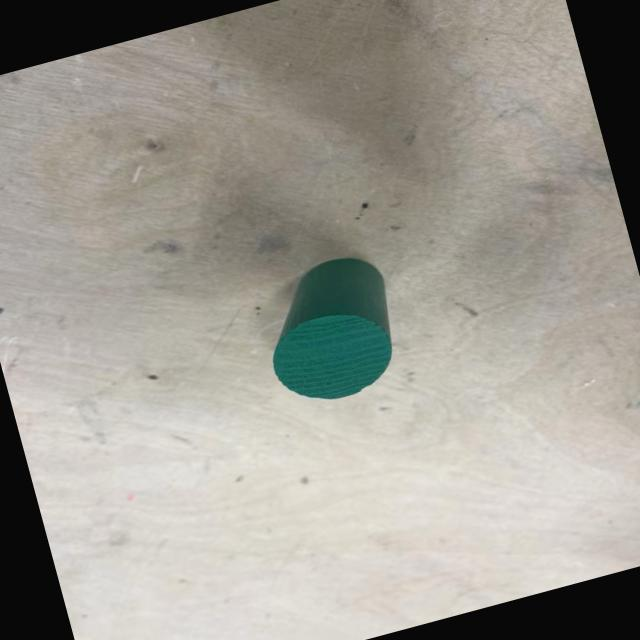green_cylinder: (250, 249, 409, 413)
